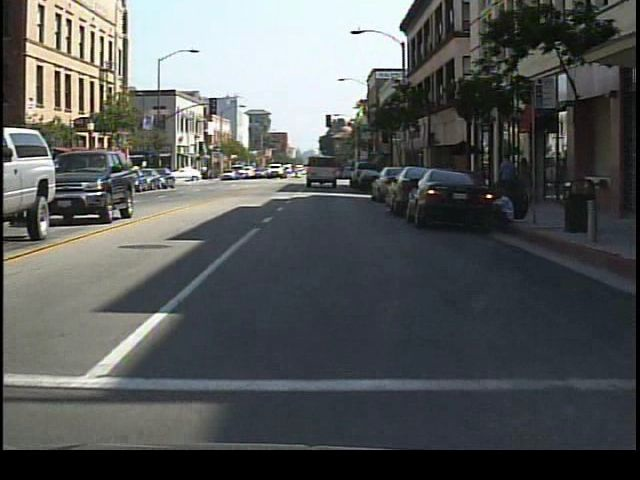person: (494, 145, 520, 210), (513, 153, 537, 209)
